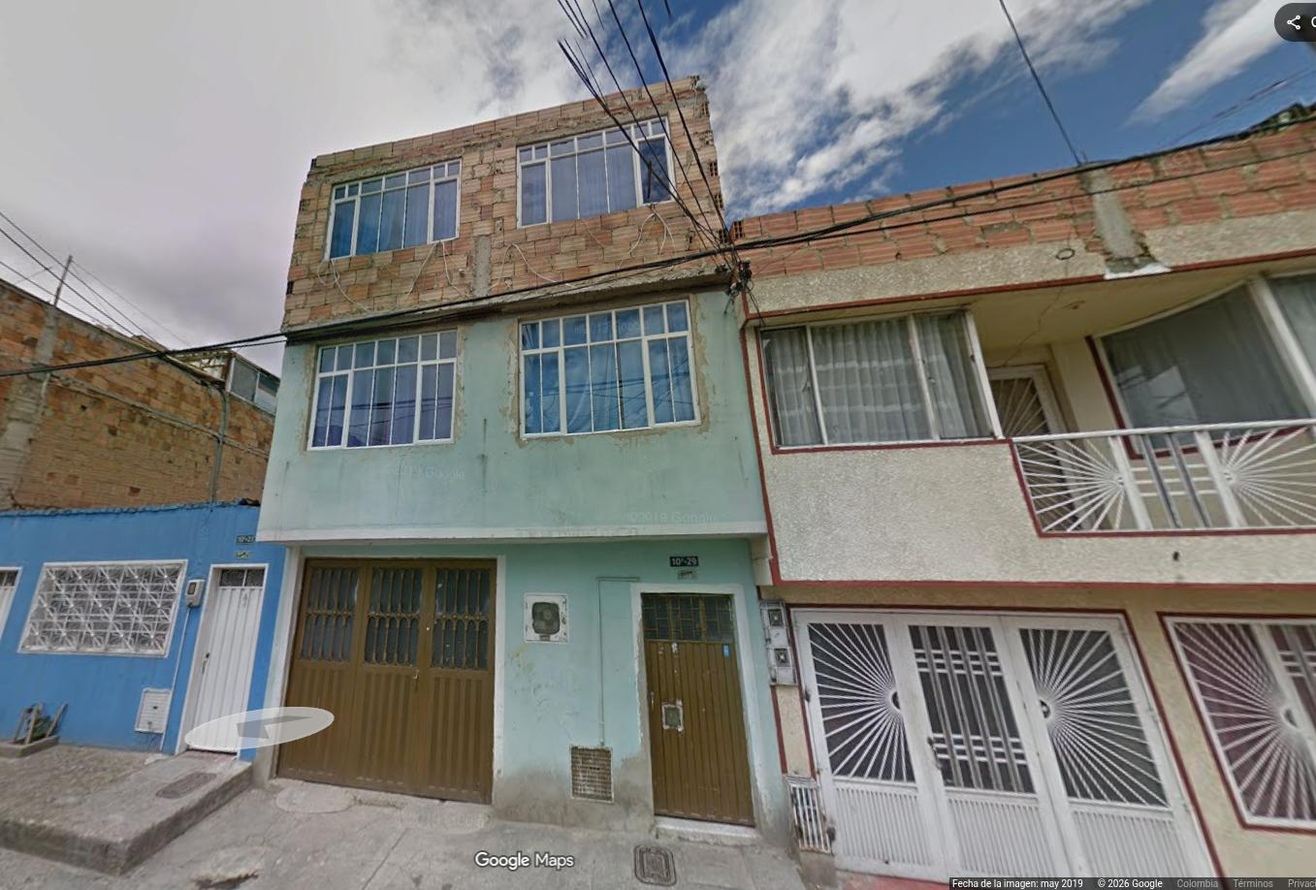casa: (737, 118, 1315, 881), (259, 78, 784, 826), (0, 502, 286, 759)
